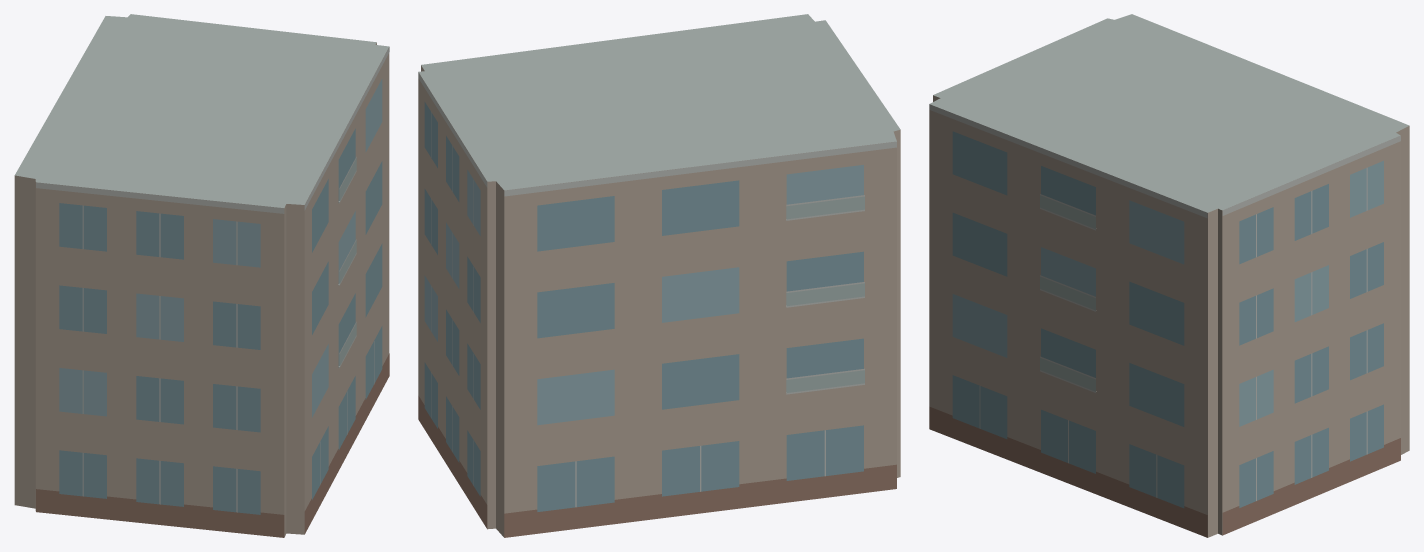
The model's file is survey-upis-32734405.glb.
3 renders of one model, left to right at view 1: azimuth 30°, elevation 25°; view 2: azimuth 150°, elevation 25°; view 3: azimuth 270°, elevation 25°, orthographic. The views are drawn at different scales.
Parts seen in each view (by area): view 1: survey-upis-32734405.tmp; view 2: survey-upis-32734405.tmp; view 3: survey-upis-32734405.tmp.
Boxes of the visible parts, x1,y1,x2,y2 form: survey-upis-32734405.tmp: (14,14,389,537); survey-upis-32734405.tmp: (418,14,900,537); survey-upis-32734405.tmp: (929,14,1409,537).
Bounding box in the file's own units: 18.24 × 13.9 × 18.62.
